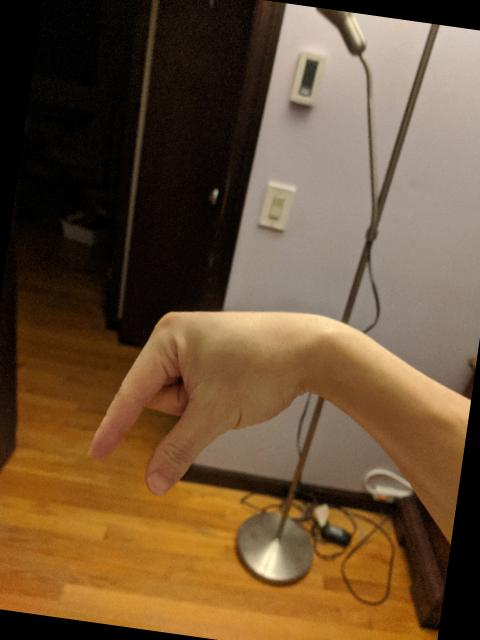Q: (77, 279, 324, 520)
